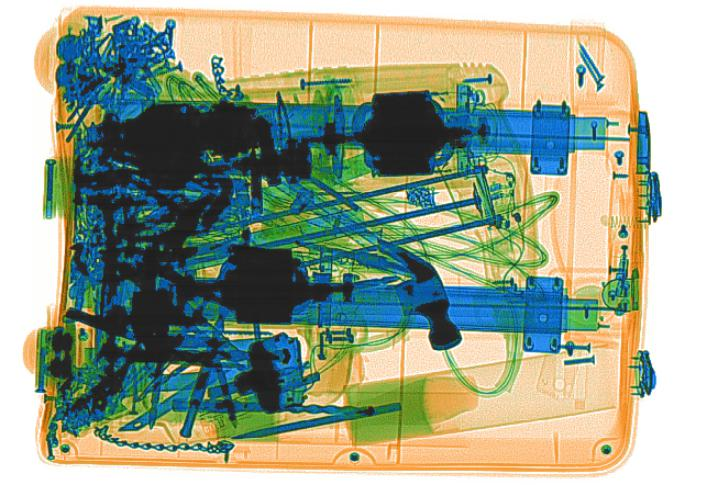knife: (117, 363, 238, 434)
